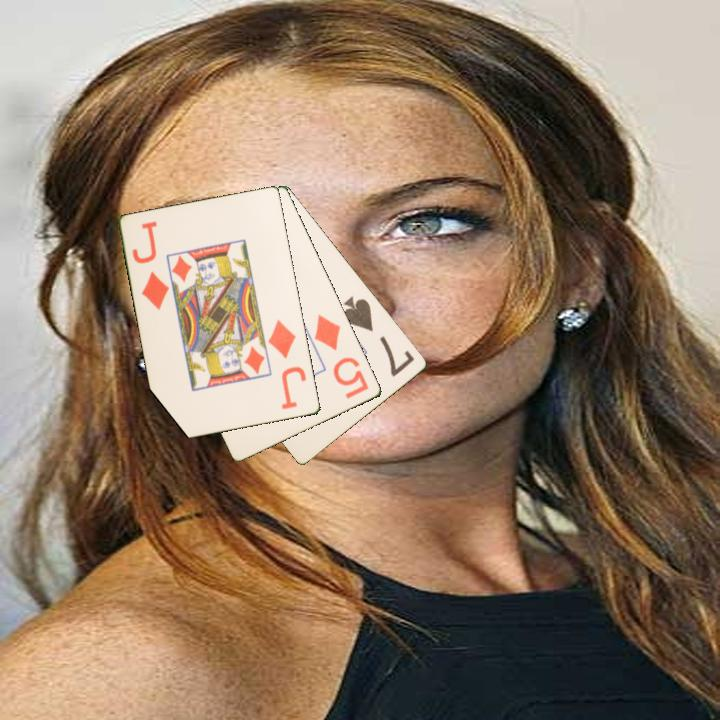5d: (311, 310, 372, 402)
7s: (340, 292, 418, 380)
Jd: (265, 316, 310, 413), (129, 218, 173, 314)
